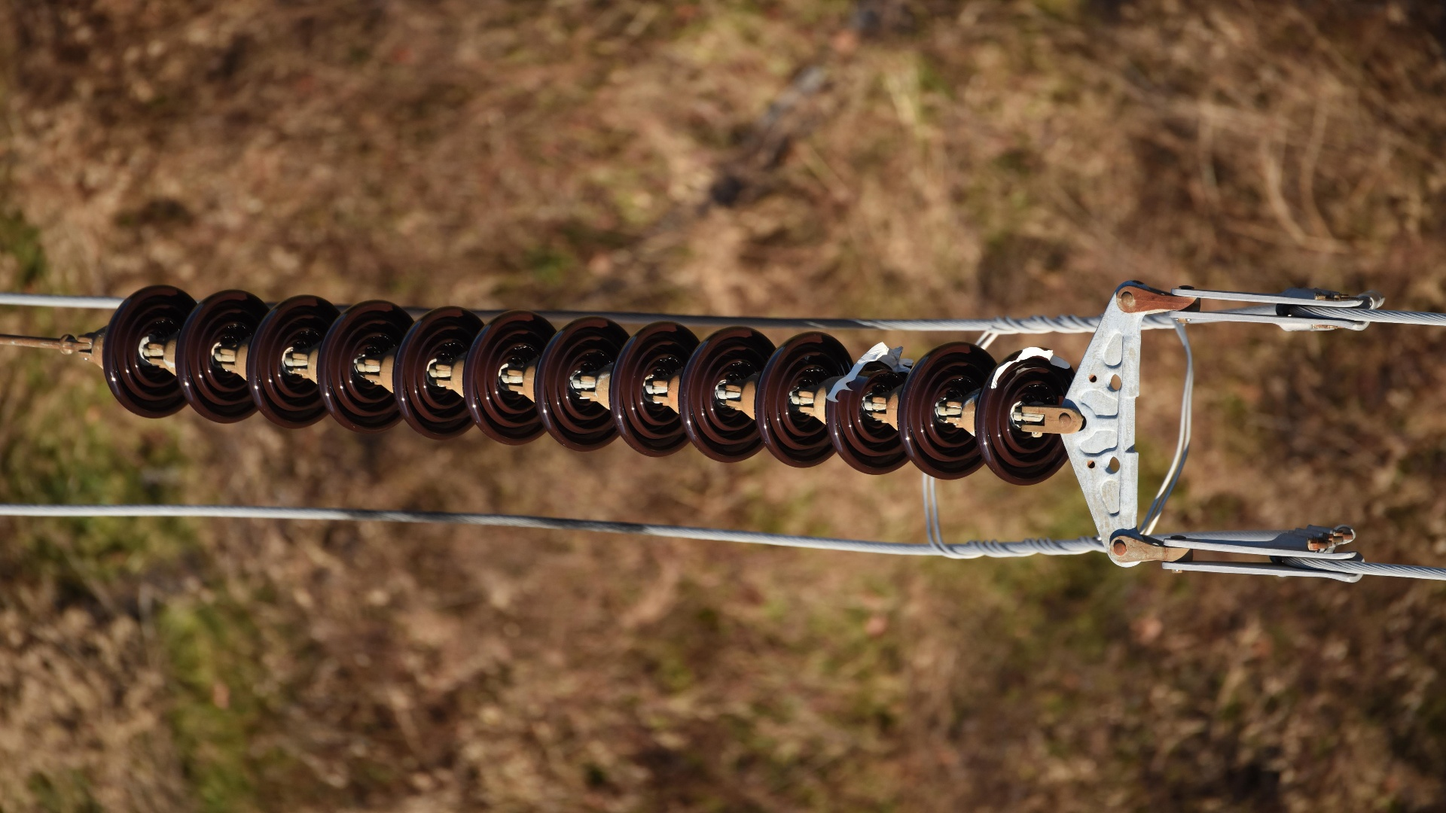insulator: (96, 281, 1075, 493)
insulator_breakage: (821, 338, 893, 406), (987, 343, 1075, 394)
